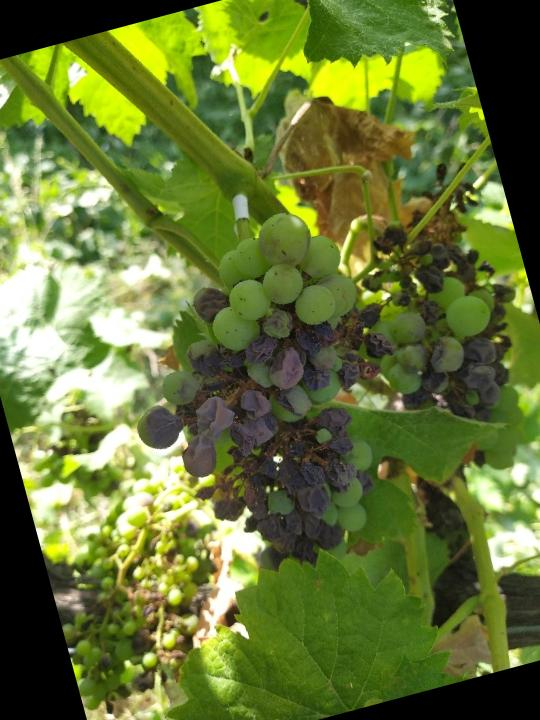grape: (89, 191, 445, 602), (318, 151, 540, 452)
